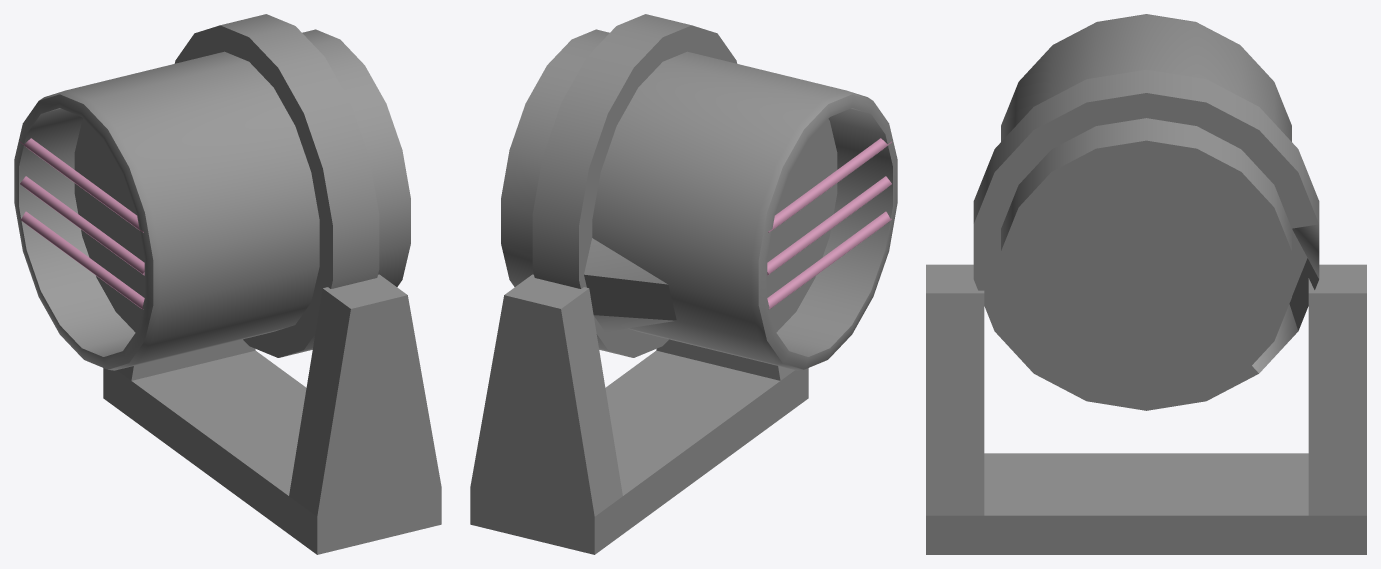
The model's file is FloodLight.FBX.
3 views of the same model, side by side, from view 1: azimuth 30°, elevation 25°; view 2: azimuth 150°, elevation 25°; view 3: azimuth 270°, elevation 25° (orthographic). The views are drawn at different scales.
Visible parts, largest first — view 1: Light, Stand, Bars; view 2: Light, Stand, Bars; view 3: Light, Stand.
Part boxes in pixels (left/top/right/bottom): Light: left=14, top=14, right=410, bottom=370; Stand: left=103, top=274, right=441, bottom=554; Bars: left=20, top=138, right=144, bottom=309; Light: left=501, top=14, right=897, bottom=370; Stand: left=470, top=274, right=808, bottom=554; Bars: left=767, top=138, right=891, bottom=309; Light: left=973, top=14, right=1319, bottom=410; Stand: left=926, top=264, right=1366, bottom=554.
Size of the model in its own units: 13.58 by 21.53 by 19.43.
